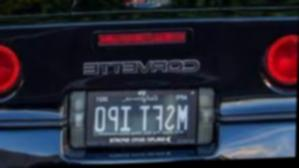License_Plate: (86, 91, 198, 147)
